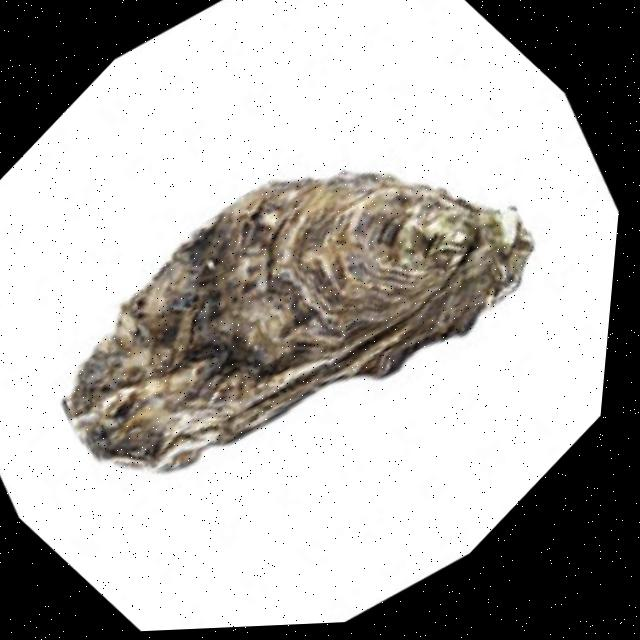Oyster-Closed: (58, 171, 533, 475)
